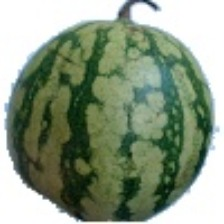watermelon: (37, 20, 186, 209)
